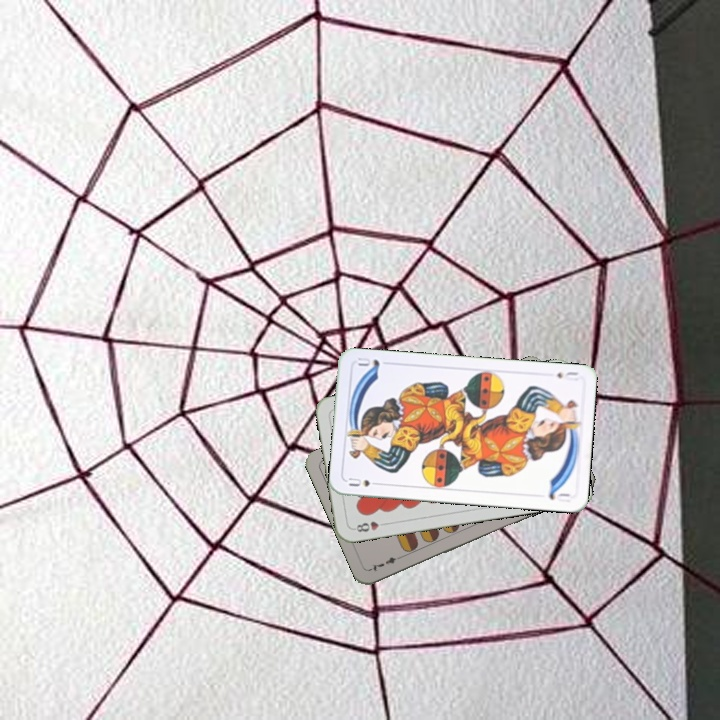E7: (367, 551, 405, 574)
H8: (350, 517, 390, 534)
SU: (344, 474, 384, 489), (553, 367, 581, 381)
